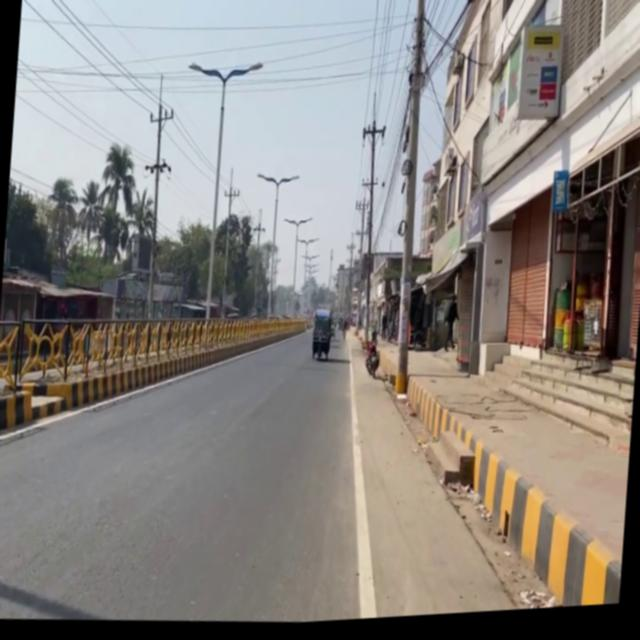Construction-barrier: (479, 347, 635, 462)
Downstairs: (308, 311, 332, 364)
Fallen-tree: (362, 337, 381, 382)
Garbage-bin: (440, 299, 460, 356)
Light-pole: (386, 0, 436, 400)
Pole: (0, 296, 245, 466)
Pothole: (343, 323, 636, 624)
